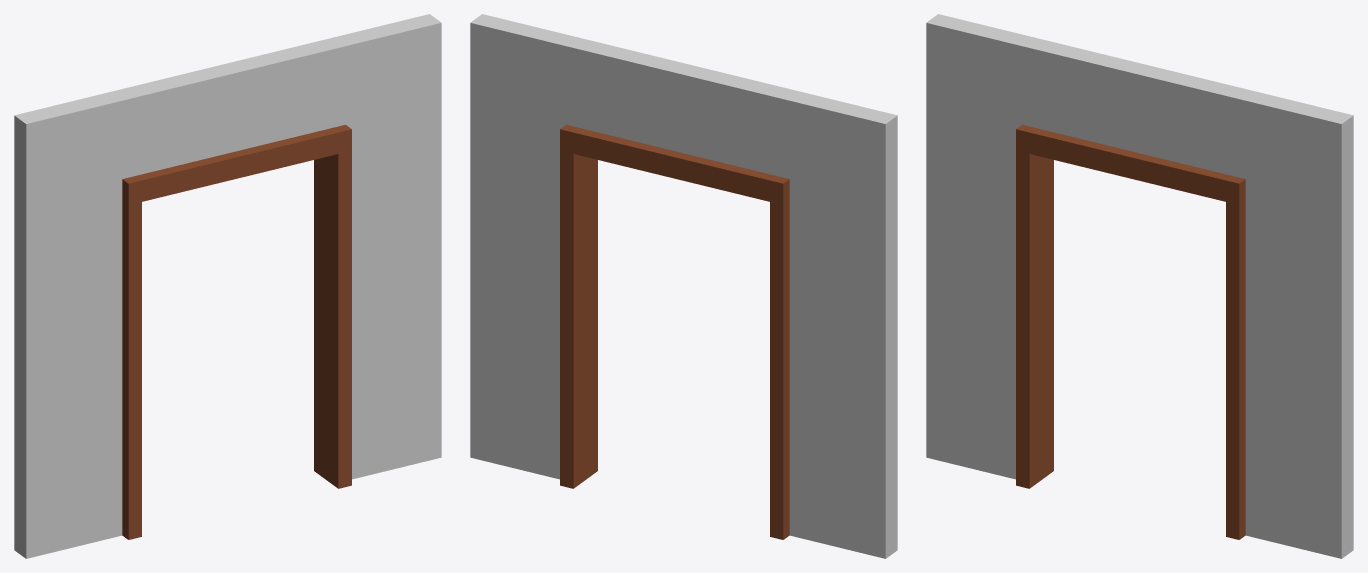
The model's file is doorway.fbx.
3 views of the same model, side by side, from view 1: azimuth 30°, elevation 25°; view 2: azimuth 150°, elevation 25°; view 3: azimuth 330°, elevation 25° (orthographic).
Parts seen in each view (by area): view 1: Doorway; view 2: Doorway; view 3: Doorway.
Boxes of the visible parts, x1=… form: Doorway: x1=14, y1=14, x2=441, y2=558; Doorway: x1=470, y1=14, x2=897, y2=558; Doorway: x1=926, y1=14, x2=1353, y2=558.
Size of the model in its own units: 100 by 100 by 10.21.
